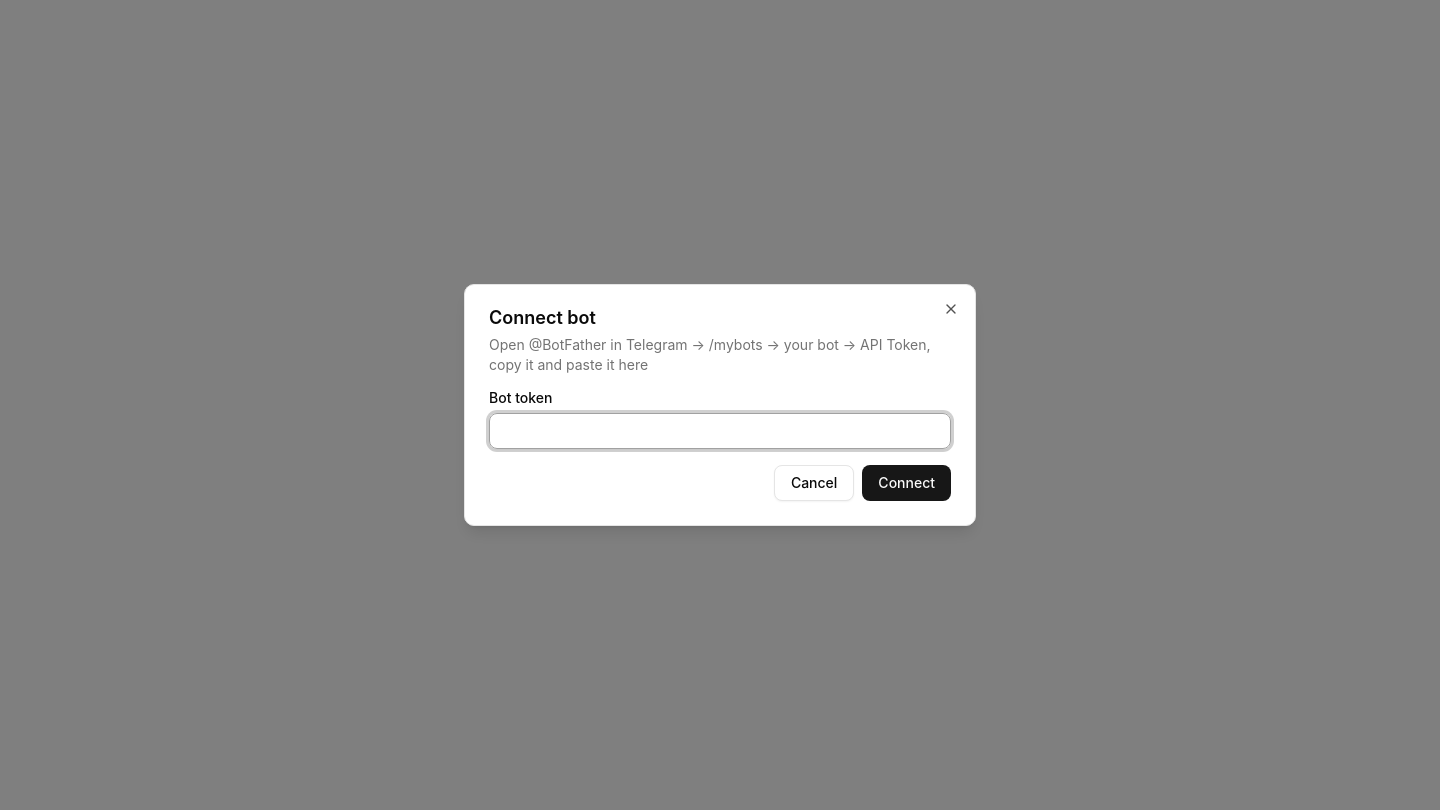
Test: PasteTokenDialog (SCR-03) › validation: a server VALIDATION_ERROR shows its message under the field
Step 1. Type "100000001:TEST-aaaaaaaaaaaaaaaaaaaaaaaaaaaaaaaaaaa" into the field labelled "Bot token" → (720, 431), box [489,413,951,449]
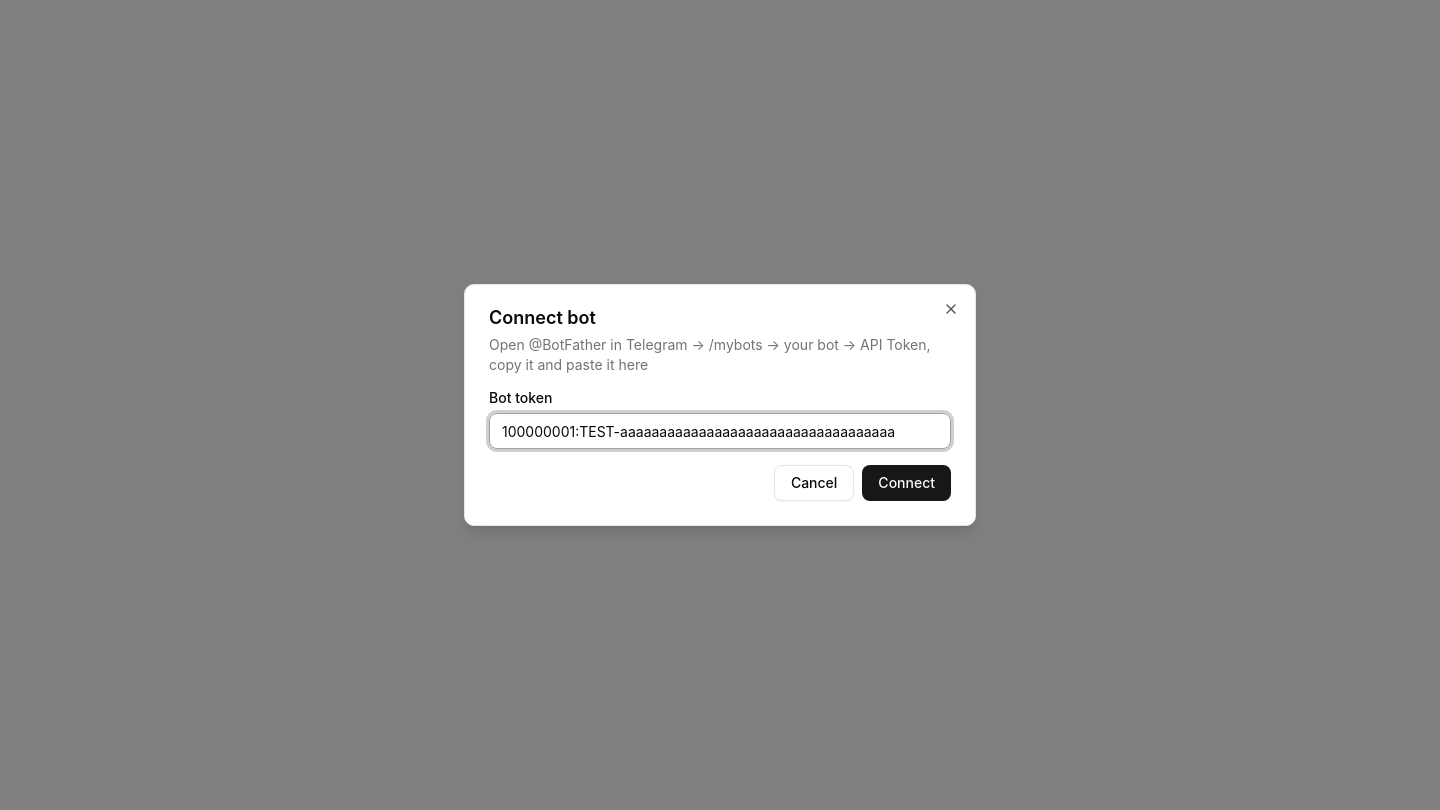
Step 2. Click the button "Connect" → (907, 483), box [862,465,951,501]
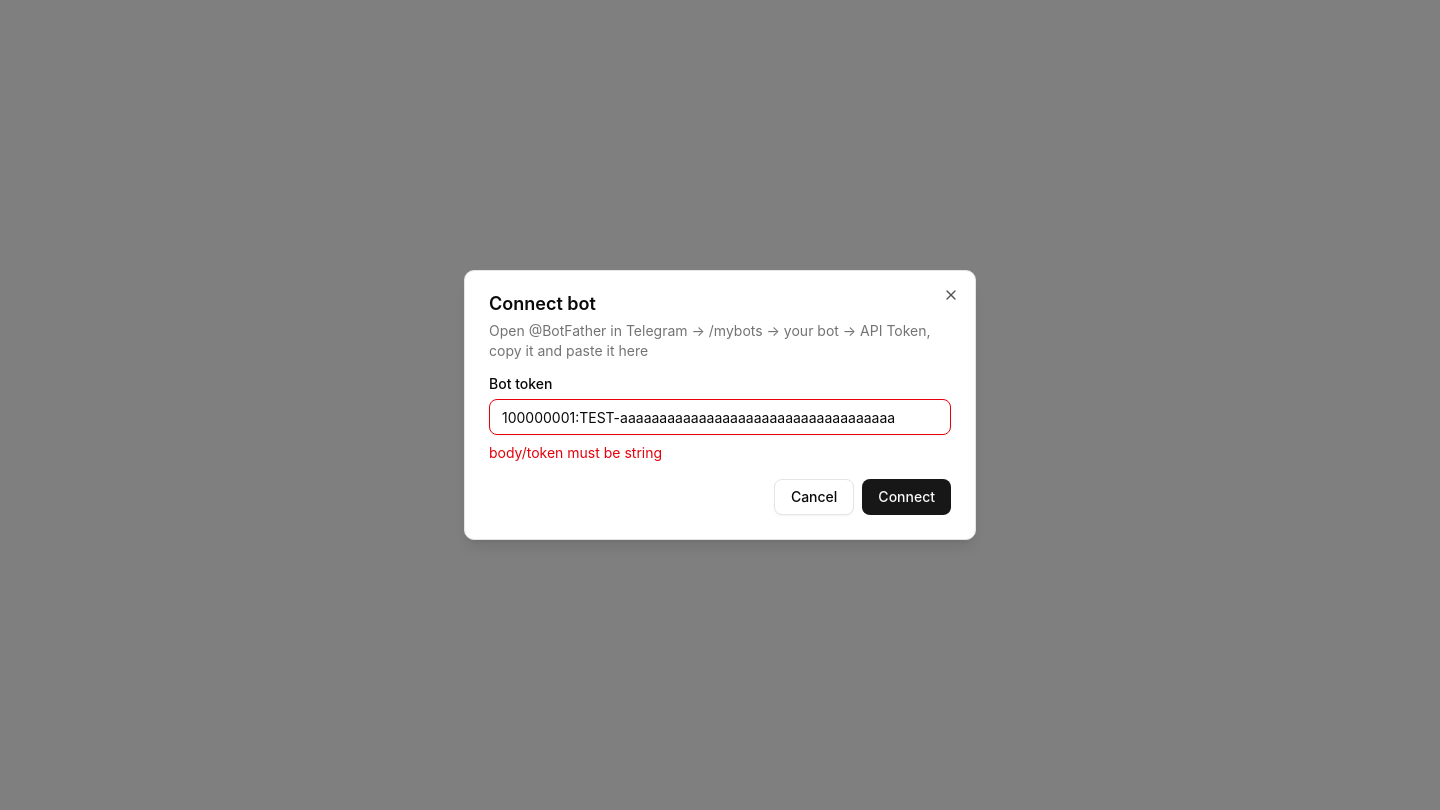
expect the text "body/token must be string" is shown: met, box [489,444,662,461]
